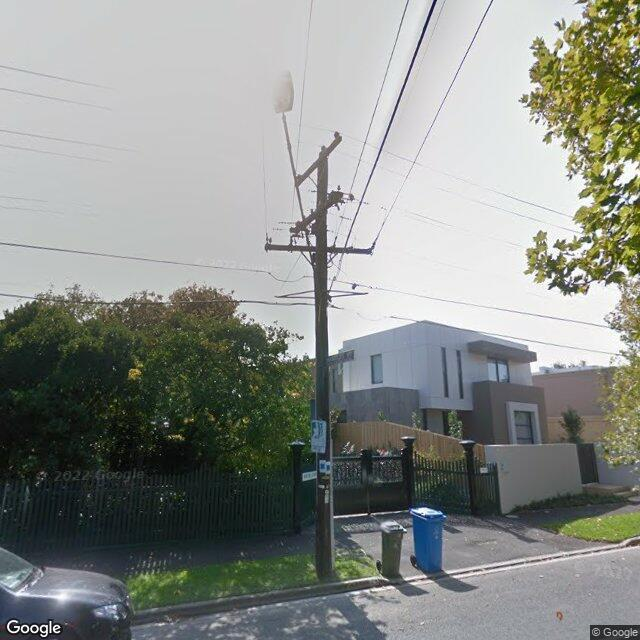HV-transmission: (296, 131, 340, 180)
crossarm: (296, 136, 342, 187), (291, 192, 344, 232), (265, 243, 372, 255)
streetlight: (272, 69, 316, 268)
timber-pole: (315, 157, 333, 581)
